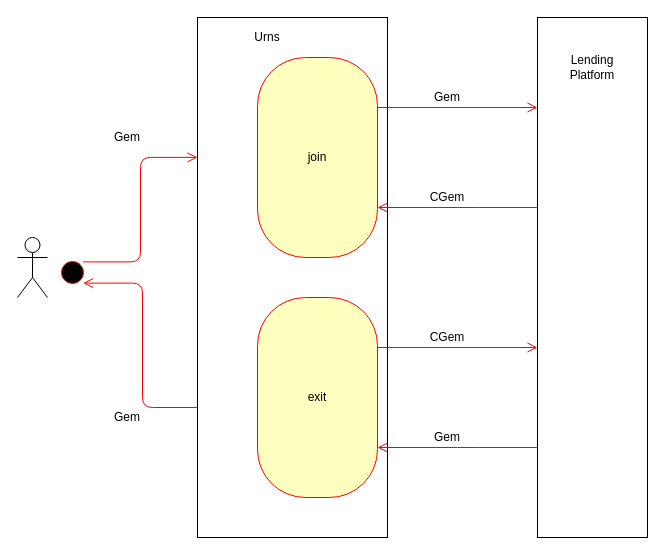
This 665x555 diagram has some shape labels left out. Each missing label, with the box of its shape:
Actor: (16, 236, 48, 298)
Compound: (536, 16, 648, 538)
